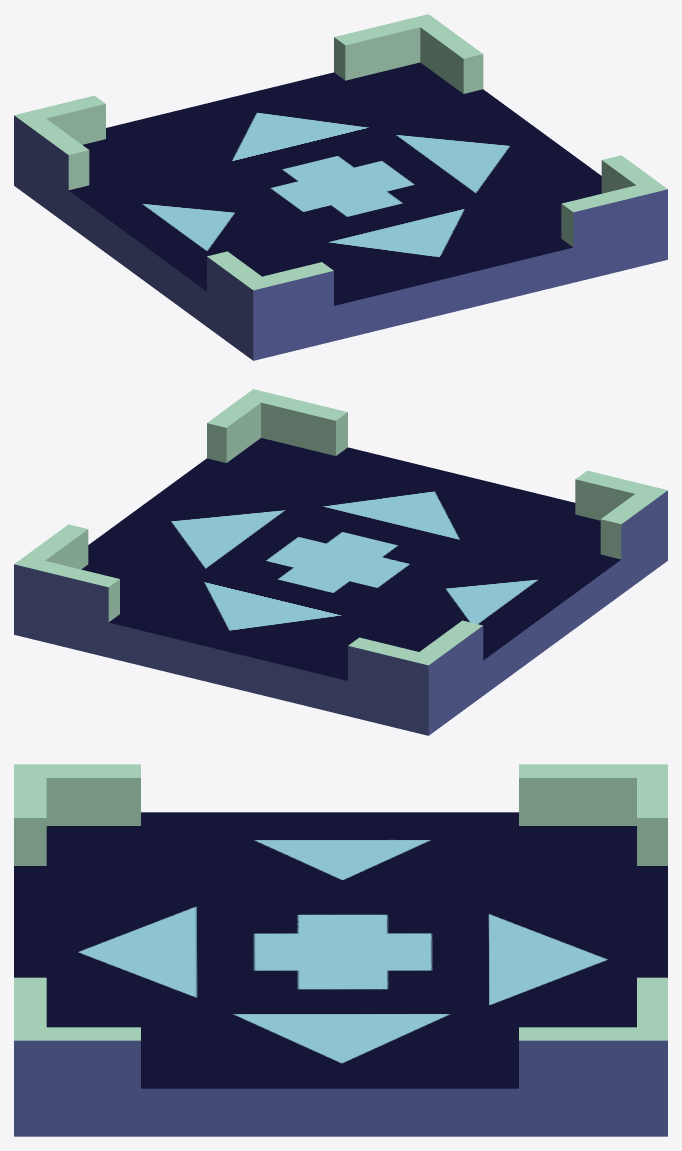
The model's file is splitter.fbx.
The picture shows the model from 3 angles, top to bottom: view 1: azimuth 30°, elevation 25°; view 2: azimuth 150°, elevation 25°; view 3: azimuth 270°, elevation 25°; orthographic projection. The views are drawn at different scales.
Parts seen in each view (by area): view 1: Cube; view 2: Cube; view 3: Cube.
Part boxes in pixels (x1,y1,x2,y2): Cube: (14, 14, 667, 360); Cube: (14, 389, 667, 735); Cube: (14, 764, 667, 1136).
Bounding box in the file's own units: 185 × 30 × 185.
3 materials, 1 textured.
